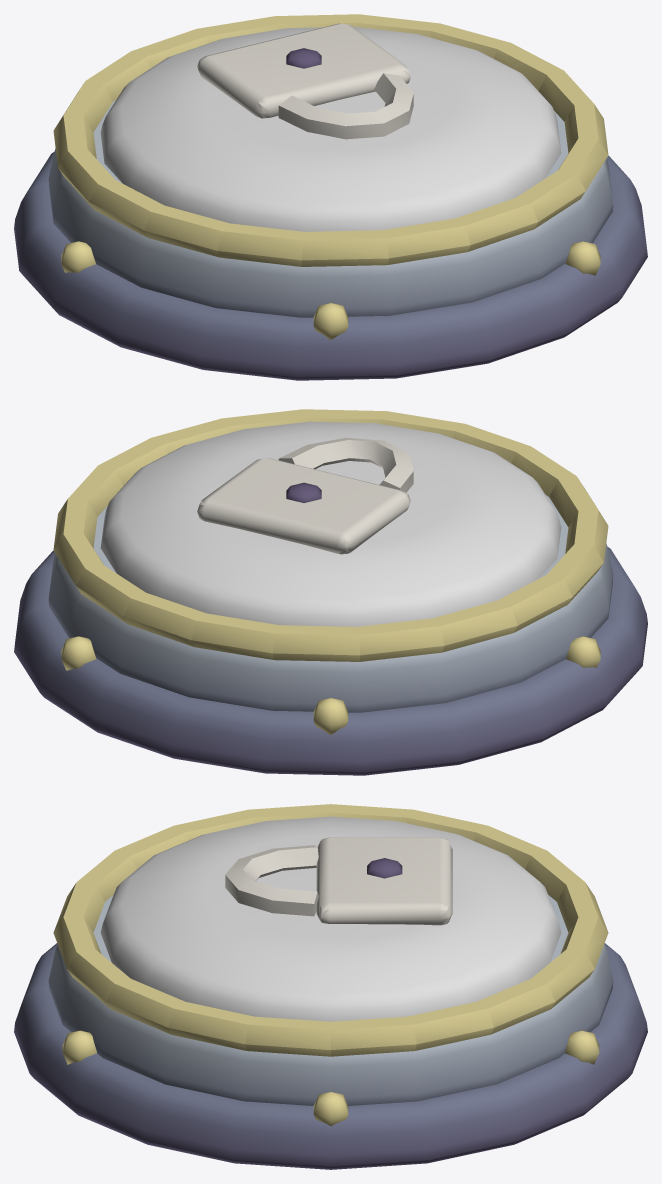
The model's file is lockButton.glb.
3 views of the same model, one above another, from view 1: azimuth 30°, elevation 25°; view 2: azimuth 150°, elevation 25°; view 3: azimuth 270°, elevation 25° (orthographic).
Parts seen in each view (by area): view 1: Body, Button; view 2: Body, Button; view 3: Body, Button.
Boxes of the visible parts, x1,y1,x2,y2 form: Body: (14,14,647,380); Button: (100,26,561,231); Body: (14,409,647,775); Button: (100,421,561,626); Body: (14,804,647,1169); Button: (100,816,561,1021).
Size of the model in its own units: 8.86 by 2.75 by 8.86.
